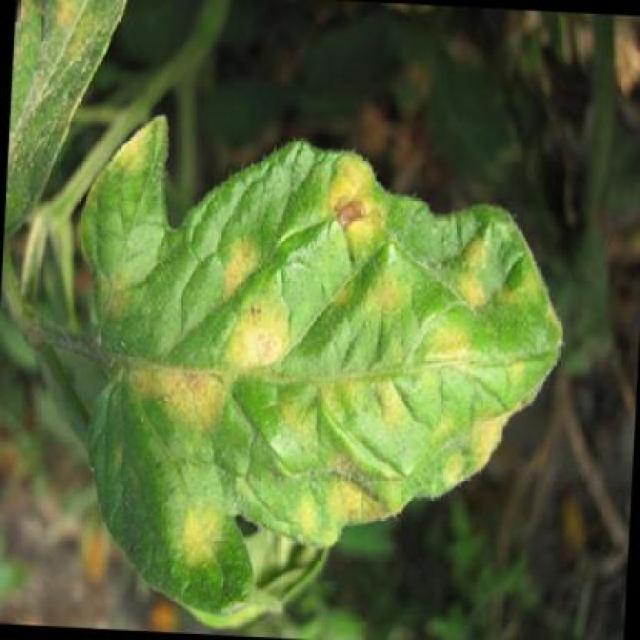Leaf Mold: (47, 104, 587, 640)
